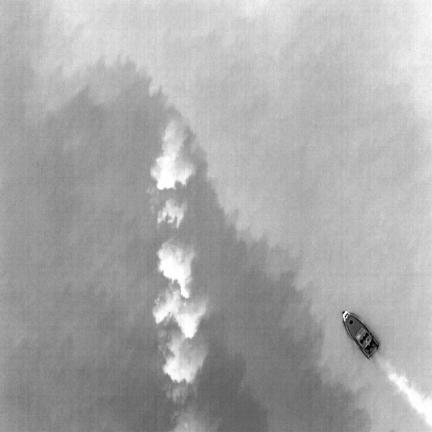flukeprints: (151, 122, 195, 189), (155, 285, 205, 338), (158, 240, 194, 298), (163, 339, 203, 382), (158, 198, 186, 227)
